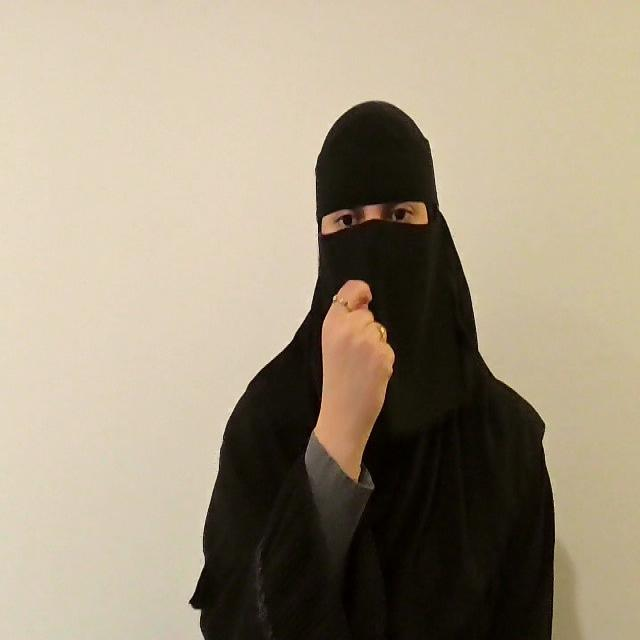medicine: (312, 277, 395, 480)
